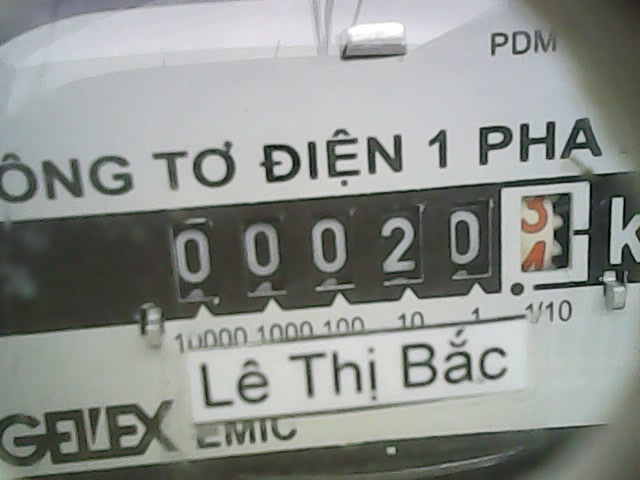phy_plate: (152, 173, 599, 311)
